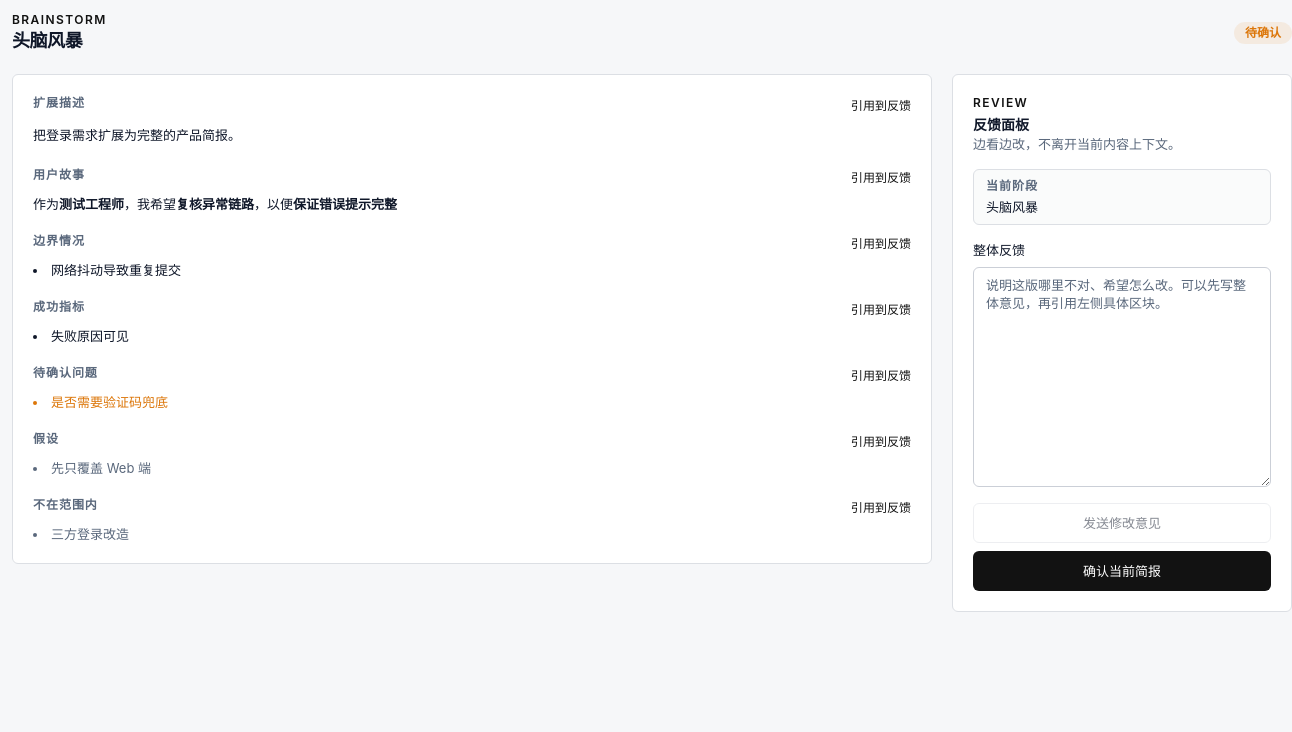
Test: IdeationBrainstormPanel › clears the draft and quoted section after sending feedback successfully
The width and height of the screenshot is (1292, 732).
Click the button "引用到反馈" in the row of "用户故事" at (881, 178), box [851, 170, 911, 186]
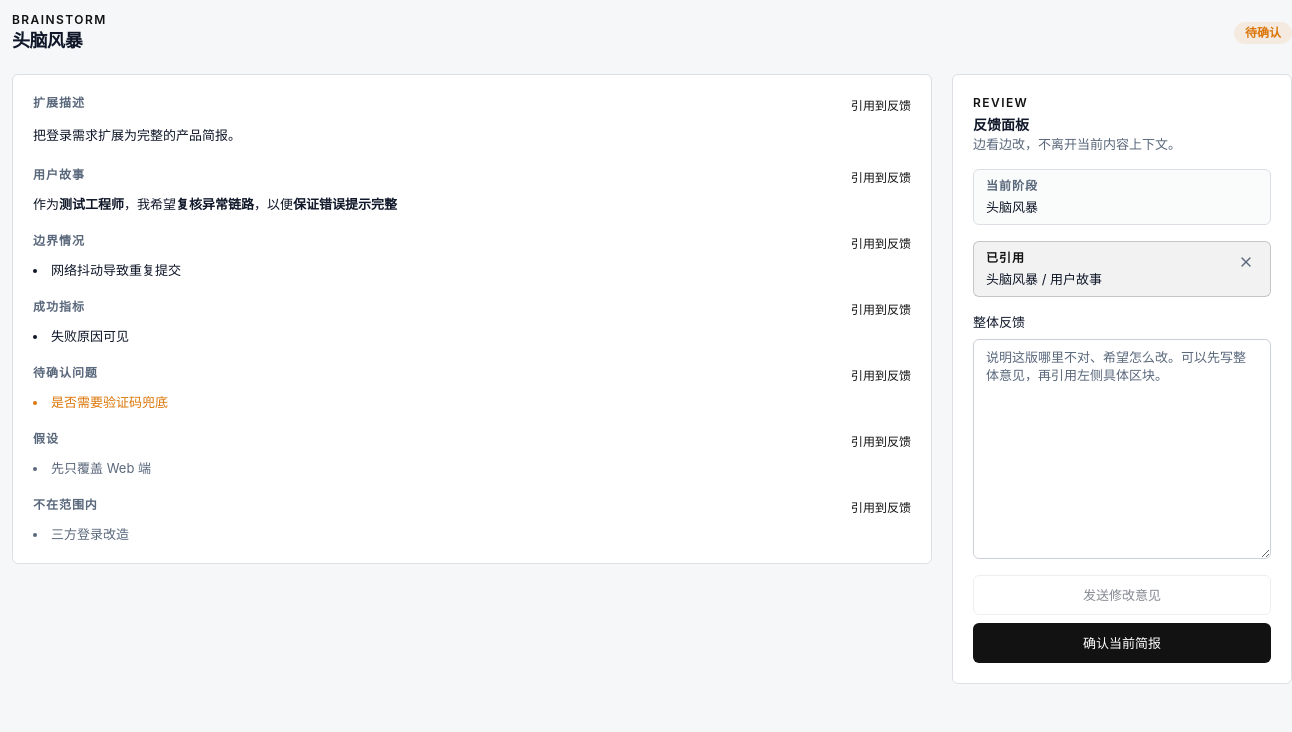
Type "把这个用户故事拆细一点" into the text box with placeholder "说明这版哪里不对、希望怎么改。可以先写整体意见，再引用左侧具体区块。" at (1122, 449), box [973, 339, 1271, 559]
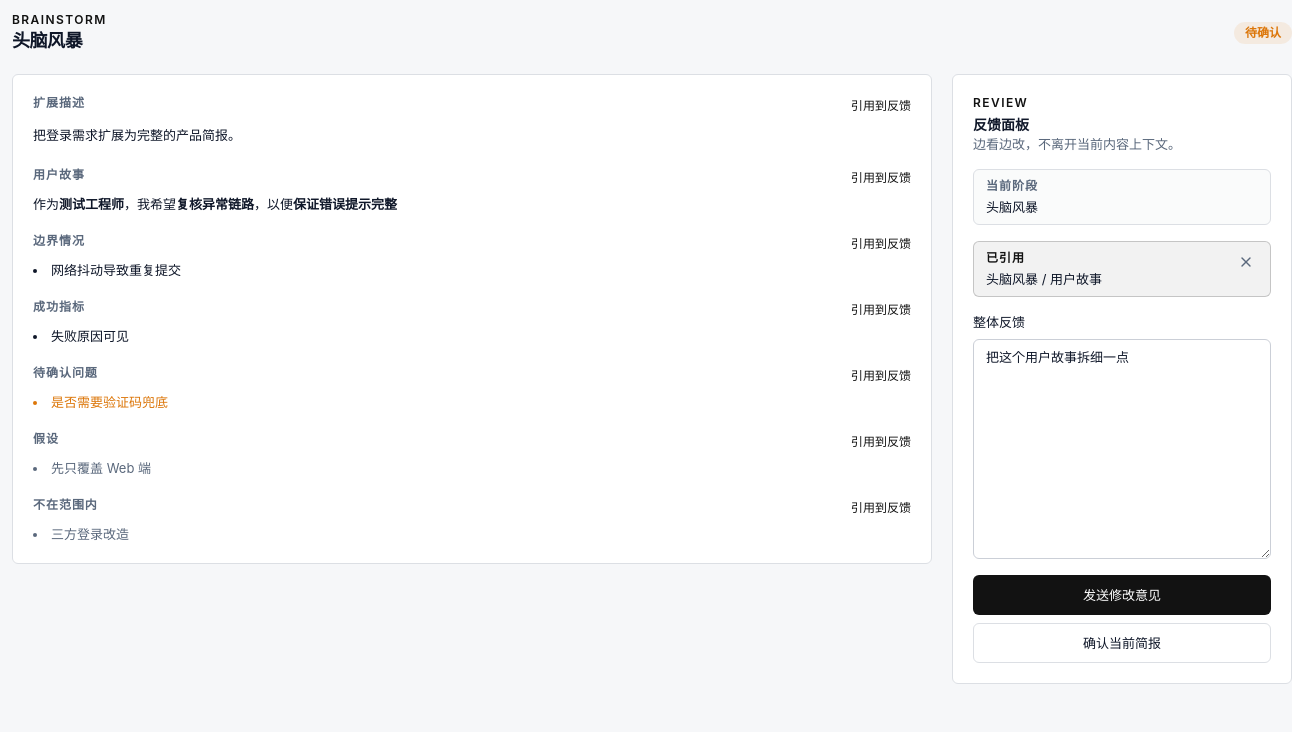
Click the button "发送修改意见" at (1122, 595), box [973, 575, 1271, 615]
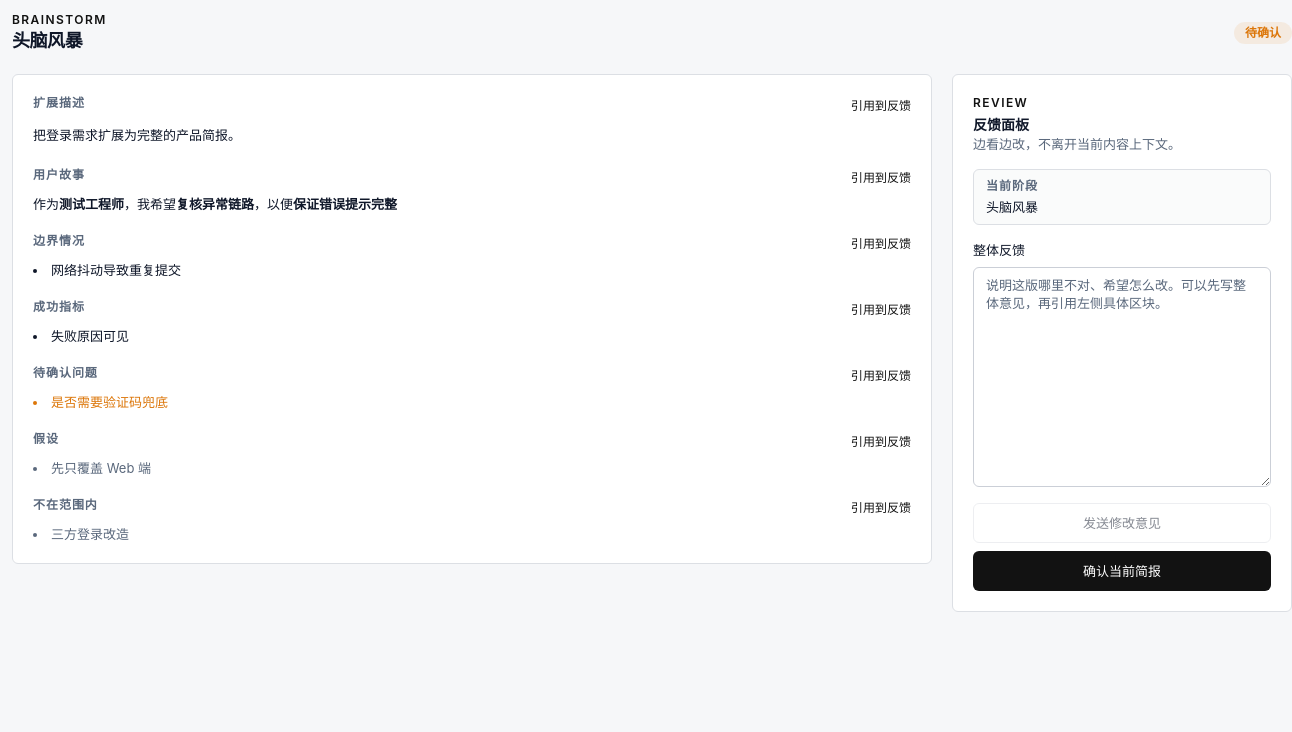
Check: the text box with placeholder "说明这版哪里不对、希望怎么改。可以先写整体意见，再引用左侧具体区块。" is empty, box [973, 267, 1271, 487]
Check: the text "已引用" is gone
